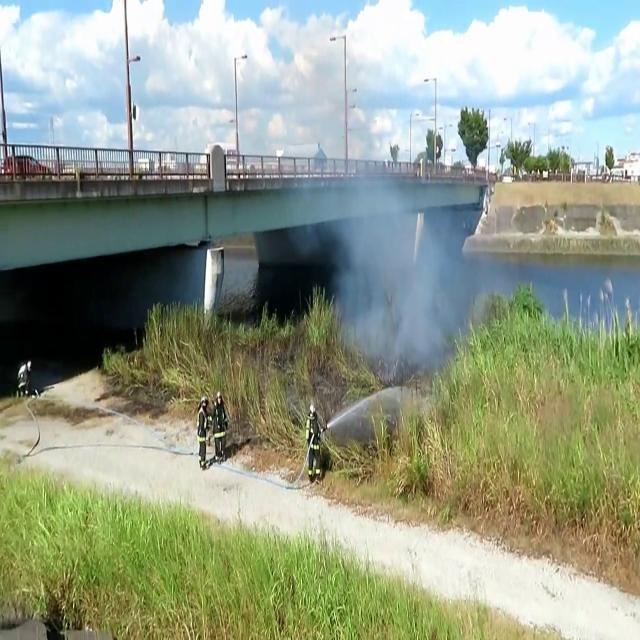Smoke: (308, 117, 484, 377)
